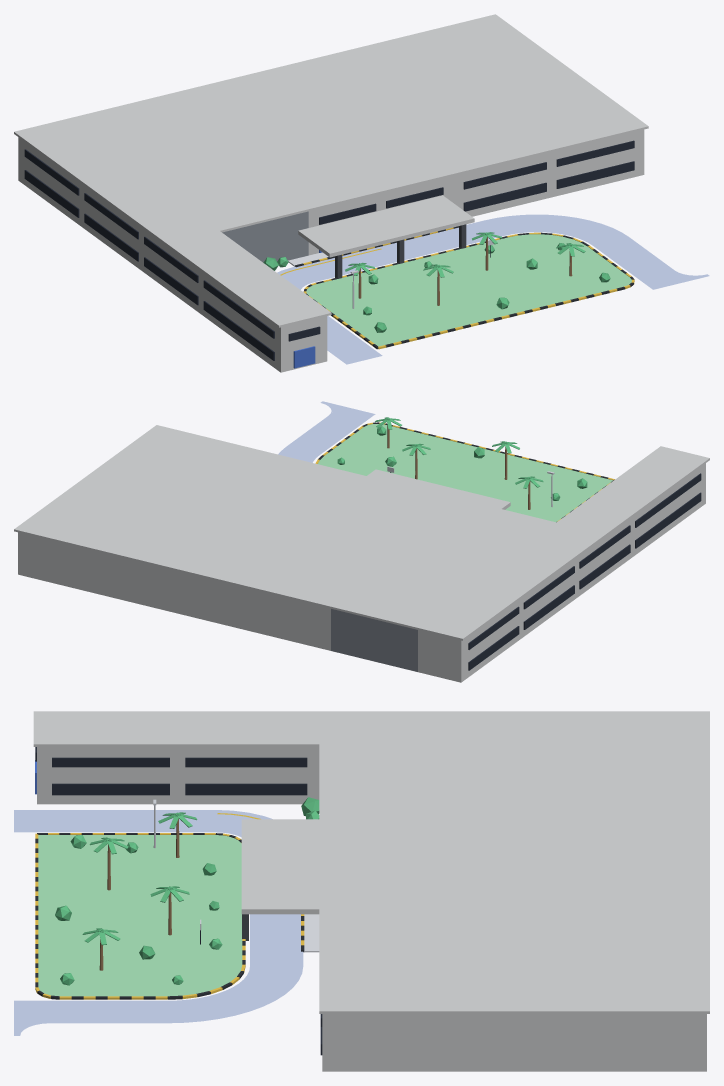
Rendered from kantor-utama.glb.
3 renders of one model, top to bottom at view 1: azimuth 30°, elevation 25°; view 2: azimuth 150°, elevation 25°; view 3: azimuth 270°, elevation 25°, orthographic. The views are drawn at different scales.
Parts seen in each view (by area): view 1: white, grass, drive, dark, stone, leaf, curb-black, curb-yellow, column; view 2: white, grass, dark, stone, drive, leaf; view 3: white, grass, drive, dark, leaf, curb-black, curb-yellow, concrete, trunk.
Boxes of the visible parts, <box> form: white: <box>14,14,648,372</box>; grass: <box>306,234,631,346</box>; drive: <box>277,214,709,364</box>; dark: <box>24,140,634,360</box>; stone: <box>222,211,308,262</box>; leaf: <box>263,232,610,332</box>; curb-black: <box>295,226,634,349</box>; curb-yellow: <box>303,227,634,349</box>; column: <box>335,224,466,278</box>; white: <box>14,425,709,682</box>; grass: <box>318,424,612,522</box>; dark: <box>390,472,701,670</box>; stone: <box>331,609,417,671</box>; drive: <box>278,401,375,462</box>; leaf: <box>337,417,587,500</box>; white: <box>33,711,709,1071</box>; grass: <box>38,835,242,996</box>; drive: <box>14,810,303,1035</box>; dark: <box>35,747,322,1055</box>; leaf: <box>55,797,319,985</box>; curb-black: <box>35,833,304,999</box>; curb-yellow: <box>35,833,304,999</box>; concrete: <box>304,914,319,952</box>; trunk: <box>99,819,179,970</box>.
Size of the model in its own units: 93.2 by 9.15 by 91.4.
